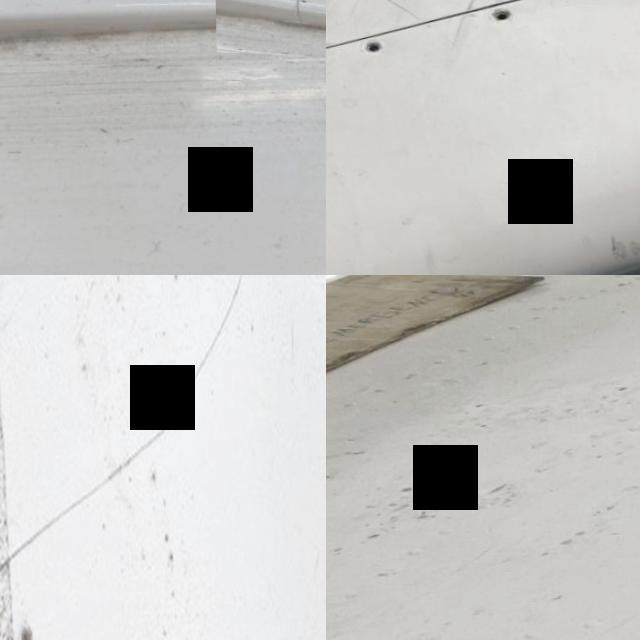Crack: (0, 275, 246, 579), (213, 0, 326, 54)
Missing_Fastener: (486, 2, 514, 20), (360, 34, 384, 54)
